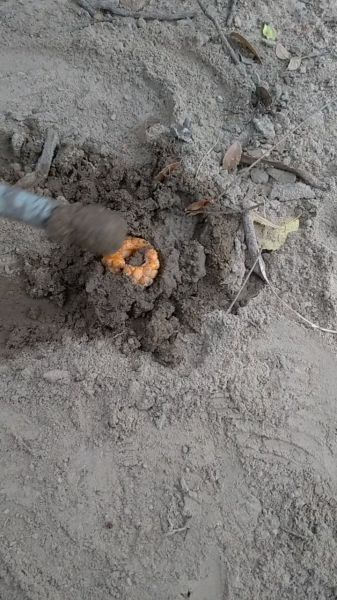eggs: (95, 231, 169, 291)
